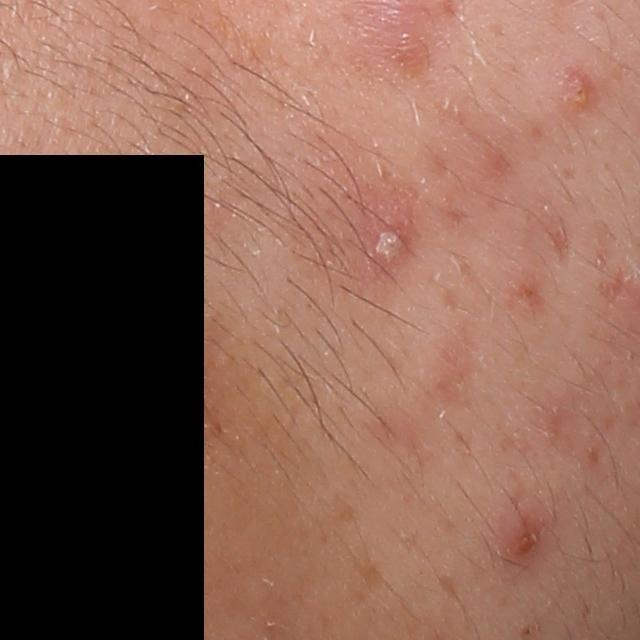papule: (501, 515, 545, 565), (562, 69, 596, 111)
